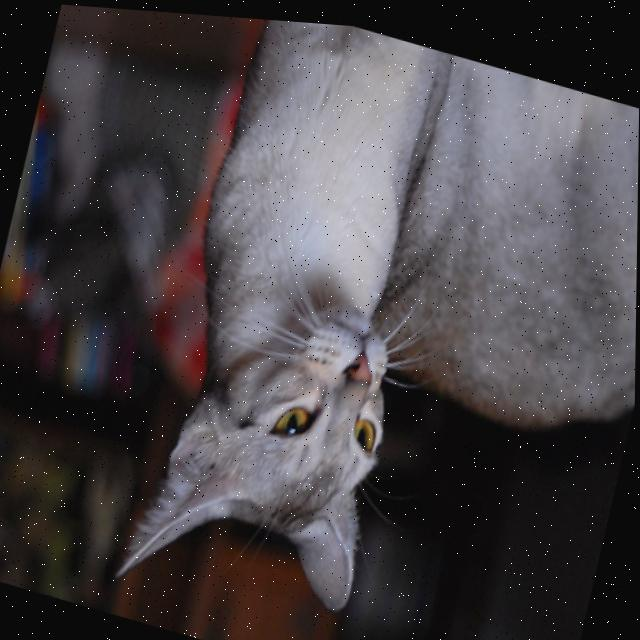Abyssinian: (105, 7, 640, 640)
